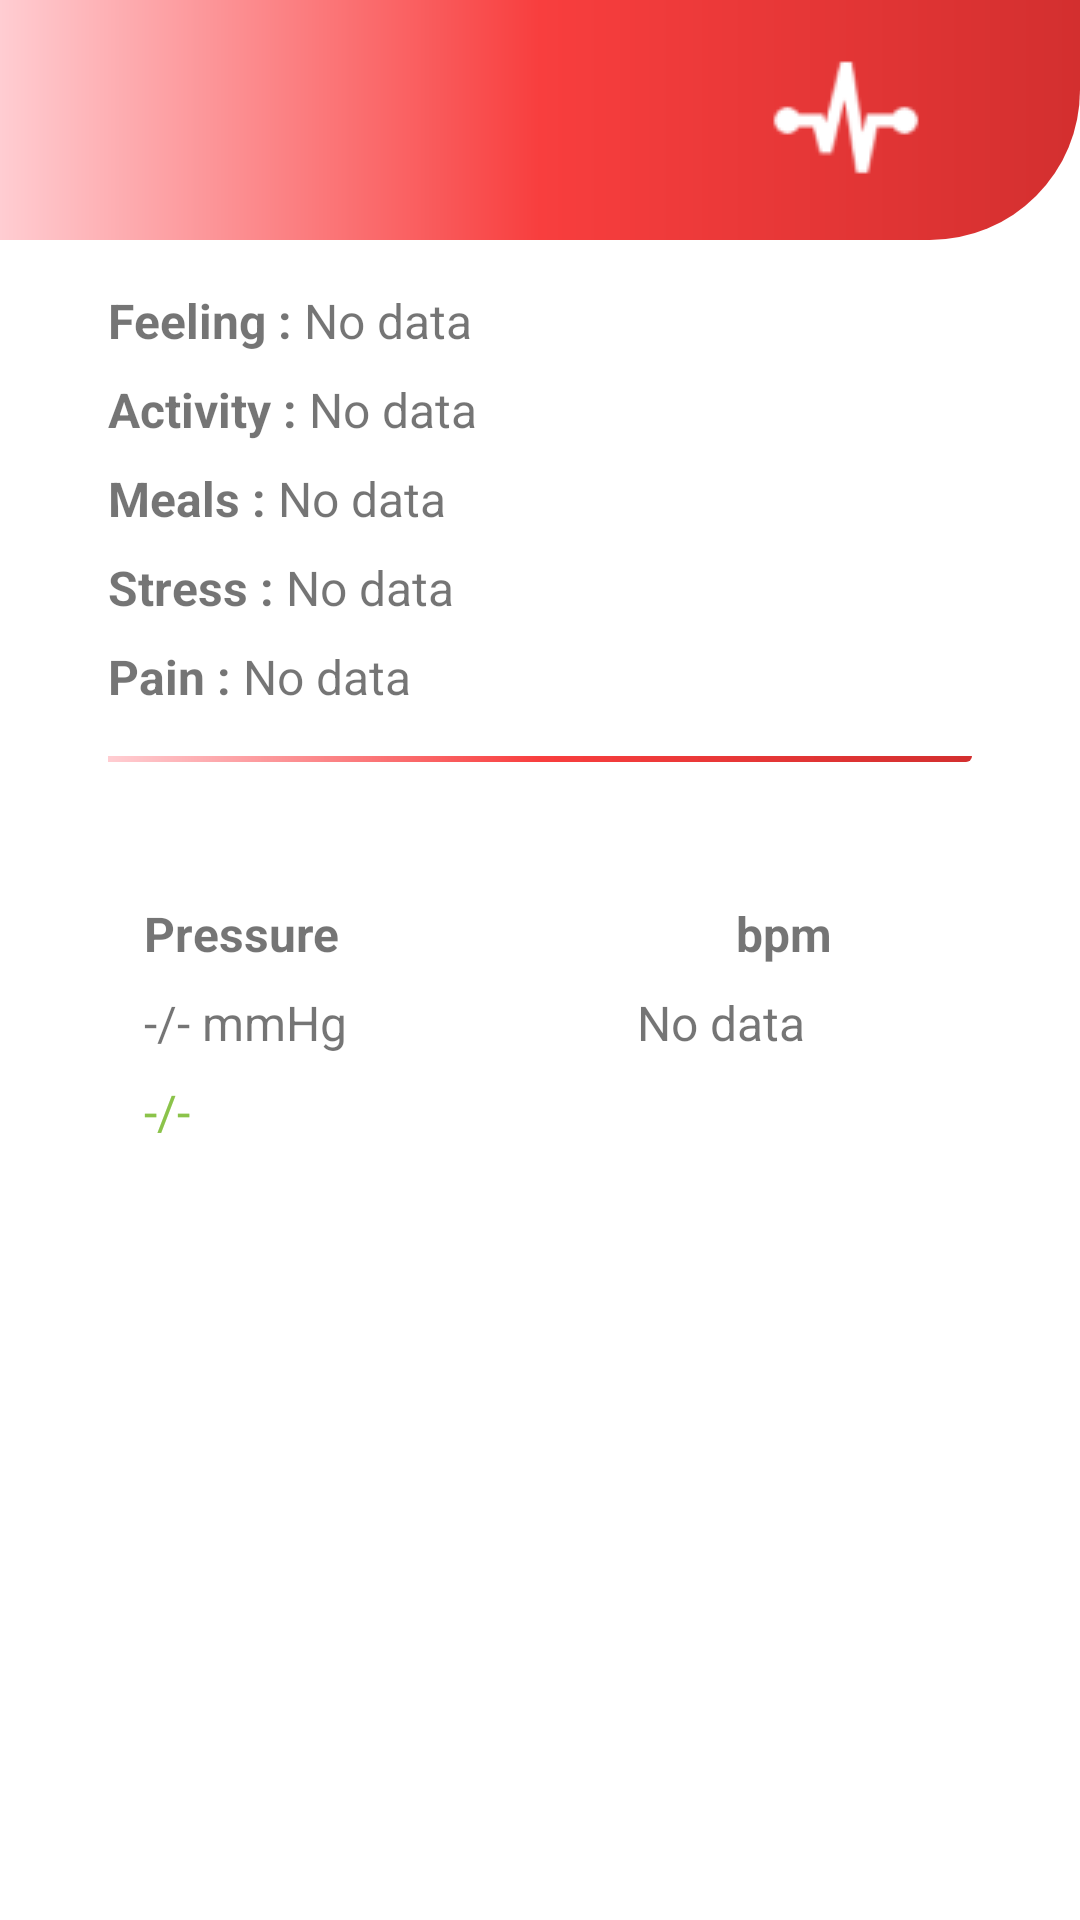

Icons on this 1080 × 1920 Android screen, each with its box as (x1, y1, x2, y2):
pulse: (773, 61, 919, 174)
